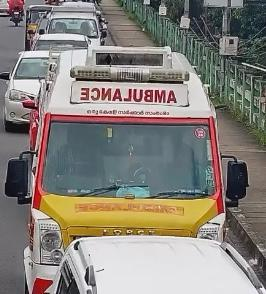ambulance: (7, 43, 247, 292)
